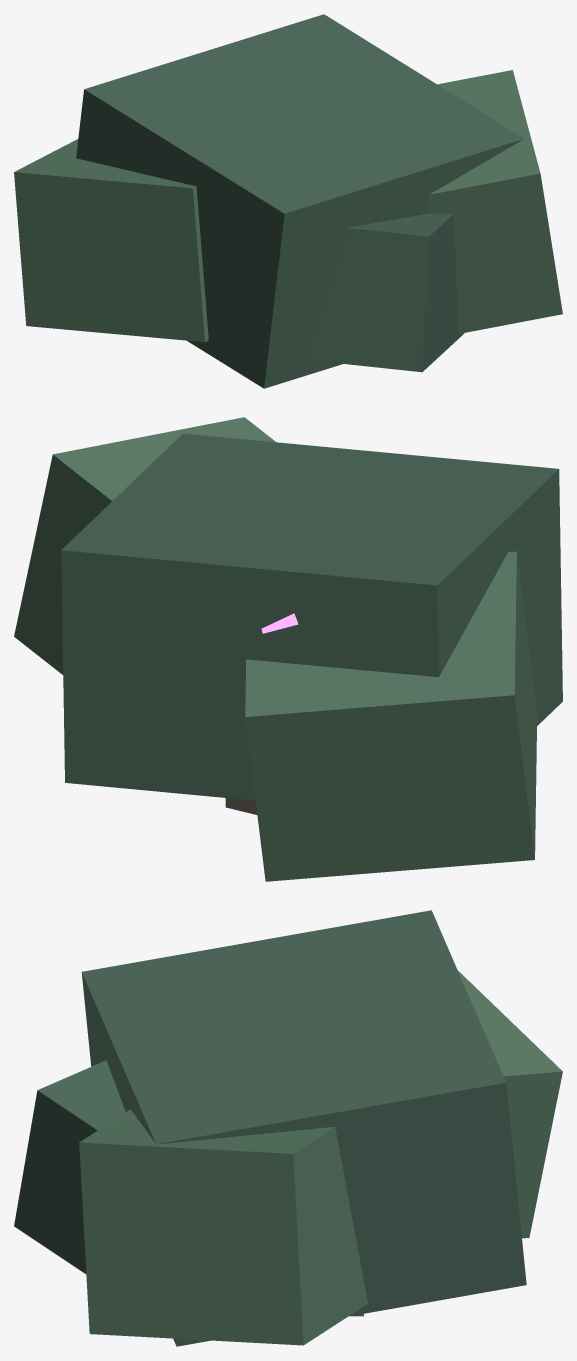
The model's file is outdoor_bush.glb.
3 renders of one model, top to bottom at view 1: azimuth 30°, elevation 25°; view 2: azimuth 150°, elevation 25°; view 3: azimuth 270°, elevation 25°, orthographic. The views are drawn at different scales.
Visible parts, largest first — view 1: Outdoor_Bush; view 2: Outdoor_Bush; view 3: Outdoor_Bush.
Part boxes in pixels (bbox=[...]): Outdoor_Bush: bbox=[14, 14, 562, 388]; Outdoor_Bush: bbox=[14, 417, 562, 881]; Outdoor_Bush: bbox=[14, 910, 562, 1346].
Bounding box in the file's own units: 1.84 × 0.9427 × 1.61.
